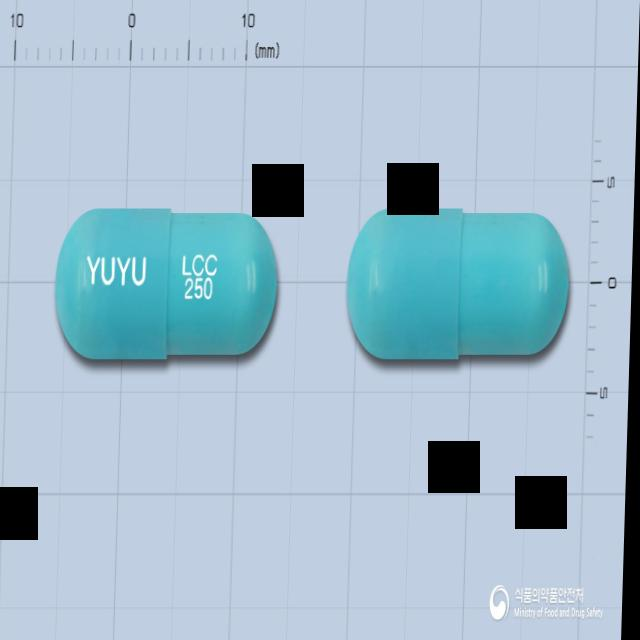Clamin: (55, 204, 283, 362), (348, 205, 575, 362)
